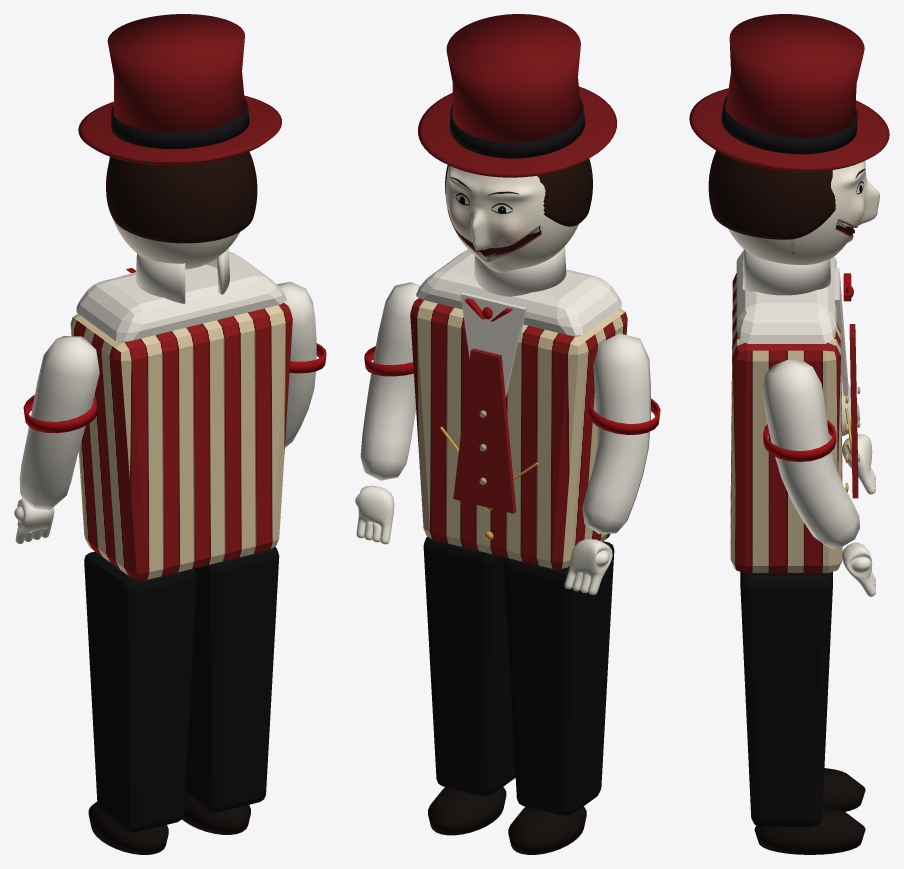
File: mascara_sorridente.glb
3 views of the same model, side by side, from view 1: azimuth 30°, elevation 25°; view 2: azimuth 150°, elevation 25°; view 3: azimuth 270°, elevation 25° (orthographic). The views are drawn at different scales.
Parts seen in each view (by area): view 1: colete, calca, calca.001, copa, cabelo, ombros, manga, aba, manga.001, fita, gola, mascara (+4 smaller); view 2: colete, calca, calca.001, copa, manga, mascara, manga.001, colete.001, ombros, aba, peitilho, sapato (+8 smaller); view 3: calca.001, colete, copa, manga.001, cabelo, aba, ombros, mascara, sapato.001, gola, fita, sapato (+6 smaller).
Part boxes in pixels (<box>): colete: <box>70,303,292,580</box>; calca: <box>84,551,196,832</box>; calca.001: <box>185,547,279,812</box>; copa: <box>107,14,245,131</box>; cabelo: <box>106,151,257,243</box>; ombros: <box>76,252,286,342</box>; manga: <box>19,336,99,509</box>; aba: <box>78,95,281,165</box>; manga.001: <box>277,281,316,447</box>; fita: <box>111,99,249,148</box>; gola: <box>135,248,229,303</box>; mascara: <box>108,157,239,269</box>; colete: <box>410,298,627,569</box>; calca: <box>504,541,614,815</box>; calca.001: <box>423,536,515,796</box>; copa: <box>446,14,581,142</box>; manga: <box>582,333,650,533</box>; mascara: <box>445,165,578,272</box>; manga.001: <box>360,282,420,480</box>; colete.001: <box>453,348,516,513</box>; ombros: <box>416,249,621,336</box>; aba: <box>418,86,617,177</box>; peitilho: <box>460,292,526,397</box>; sapato: <box>508,806,586,854</box>; calca.001: <box>740,572,832,826</box>; colete: <box>730,273,842,572</box>; copa: <box>726,14,864,137</box>; manga.001: <box>762,360,859,549</box>; cabelo: <box>708,150,835,239</box>; aba: <box>689,88,889,171</box>; ombros: <box>736,251,836,343</box>; mascara: <box>728,160,879,264</box>; sapato.001: <box>754,807,865,854</box>; gola: <box>742,249,830,295</box>; fita: <box>721,95,857,154</box>; sapato: <box>822,768,865,811</box>.
Bounding box in the file's own units: 0.7138 × 1.85 × 0.4284.
17 materials, 2 textured.
